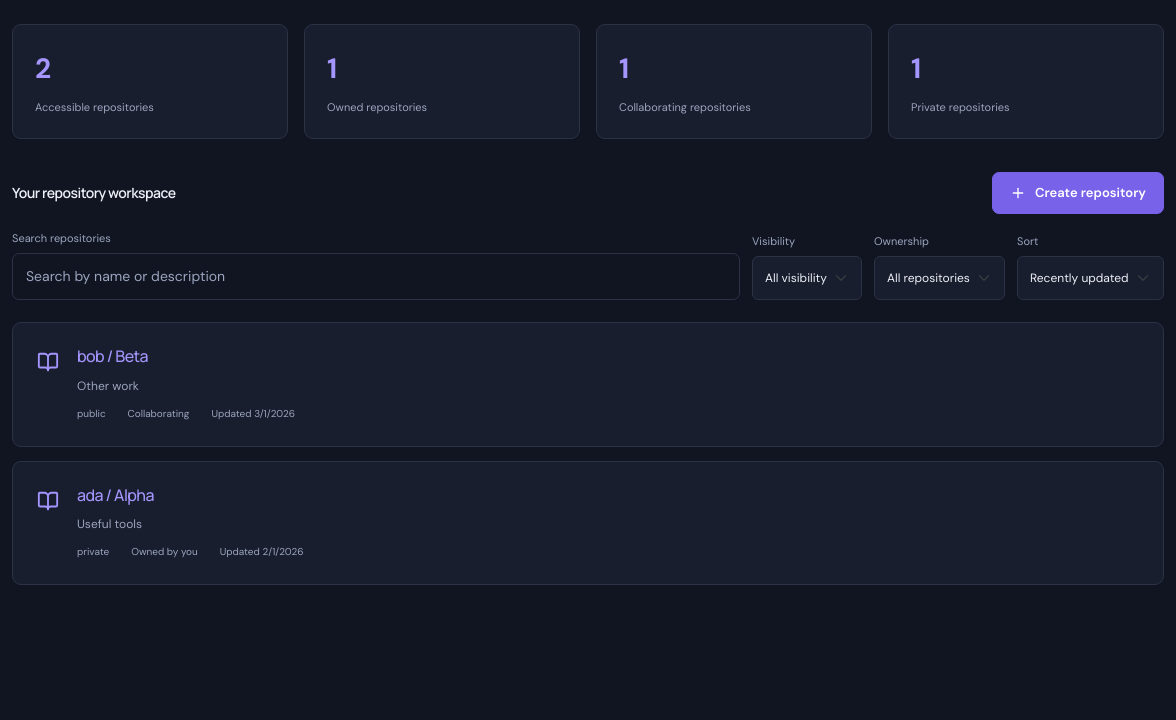
Scenario: repository browser › renders real repository links and search empty/reset behavior
Type "nothing" into the field labelled "Search repositories". click: (376, 277)
box: [12, 254, 740, 300]
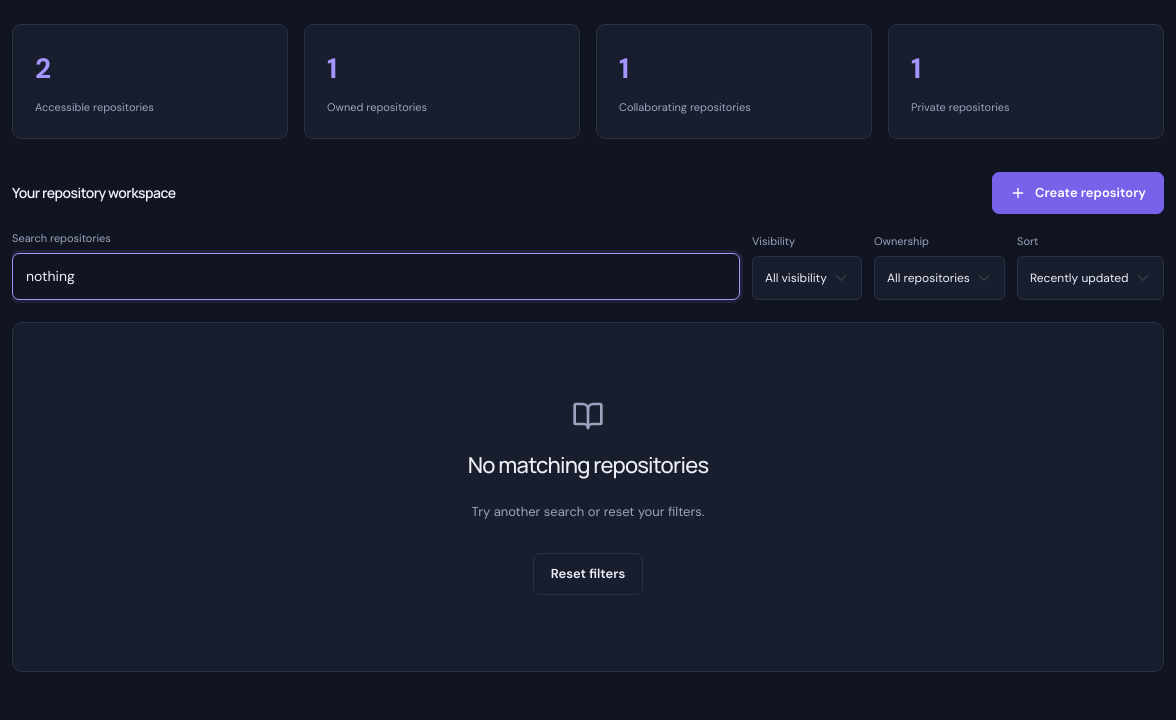
Now the heading "No matching repositories" is shown, box [468, 452, 708, 478]
Click the button "Reset filters". click: (588, 574)
box: [533, 553, 643, 595]
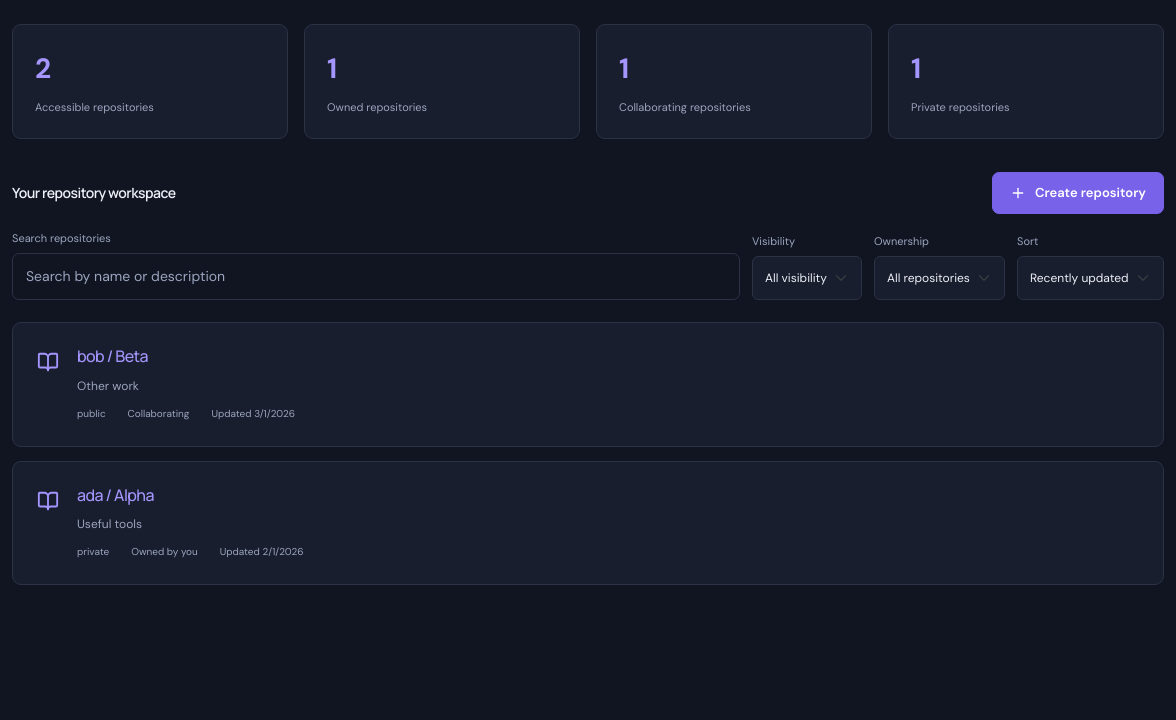
Now the link "ada / Alpha" is shown, box [77, 484, 154, 506]
